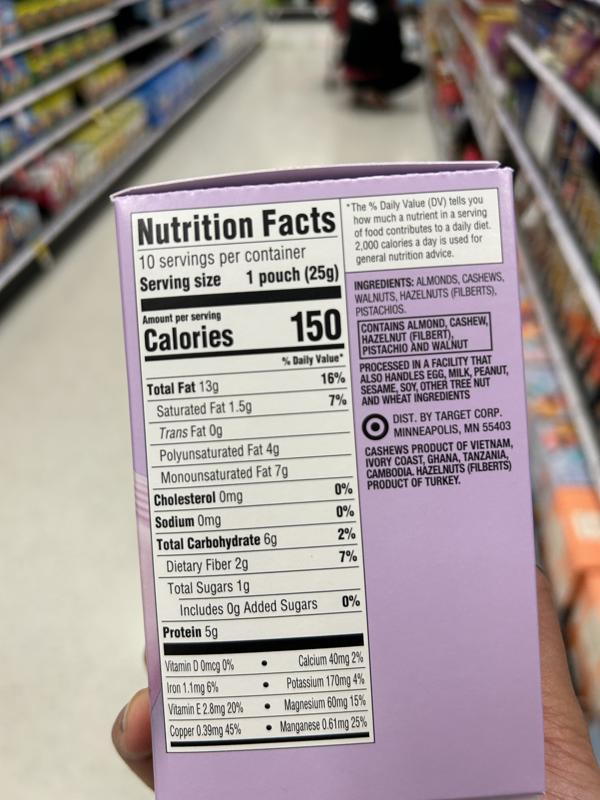ingredients: (351, 271, 508, 318)
